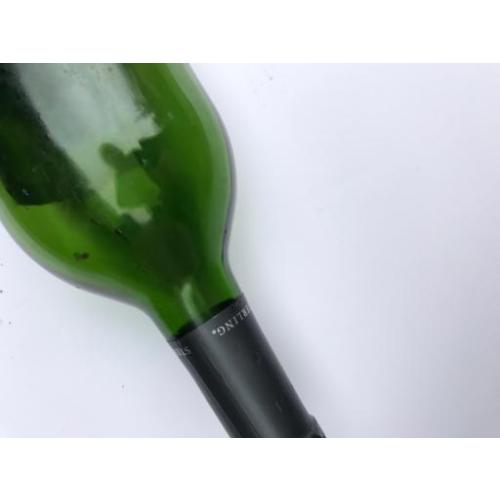glass: (0, 64, 327, 436)
